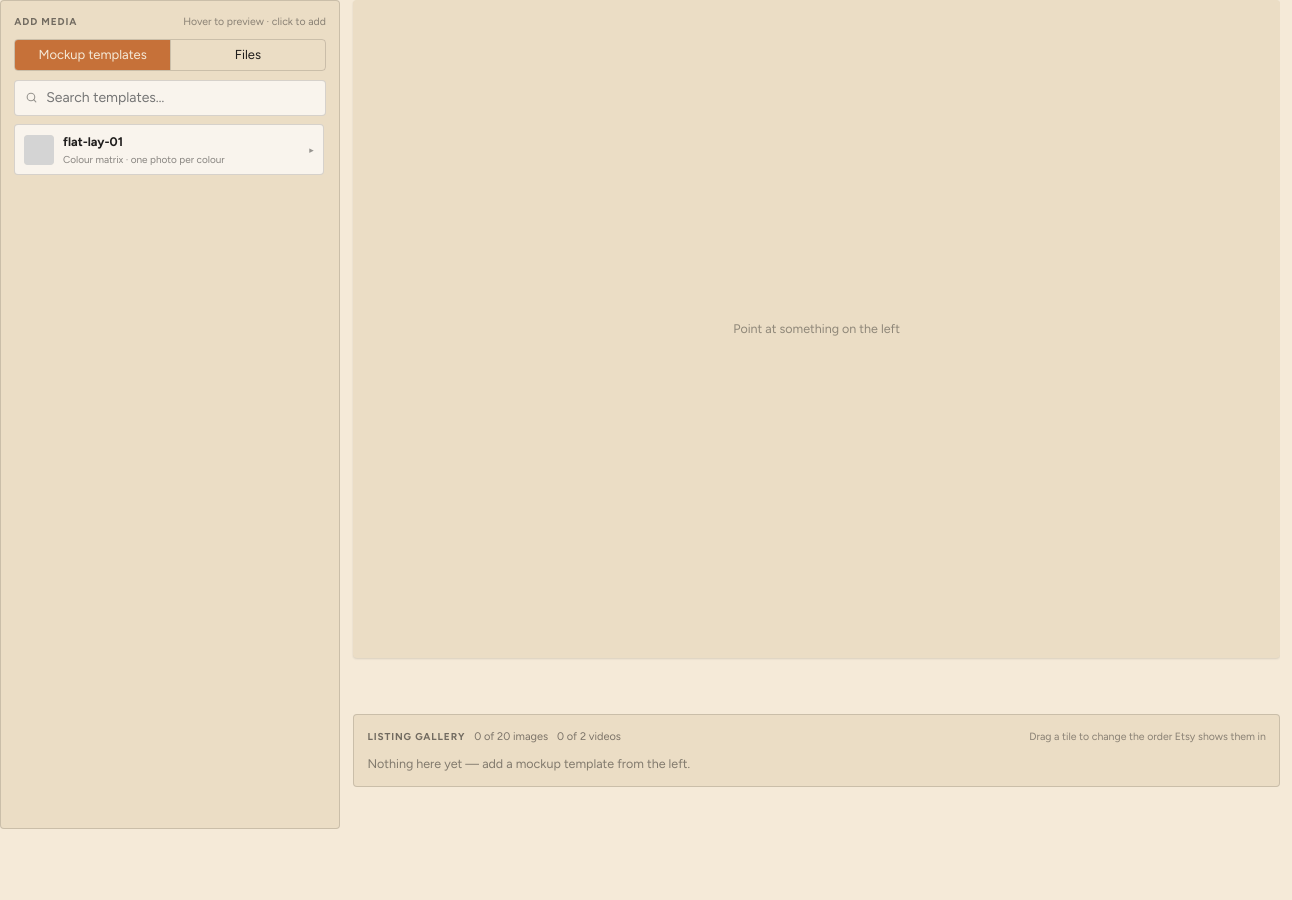
Test: ImagesTab › previews what the pointer is over, naming the file it would render from
Click the text "flat-lay-01": coordinates (93, 142) x1=63 y1=134 x2=123 y2=149
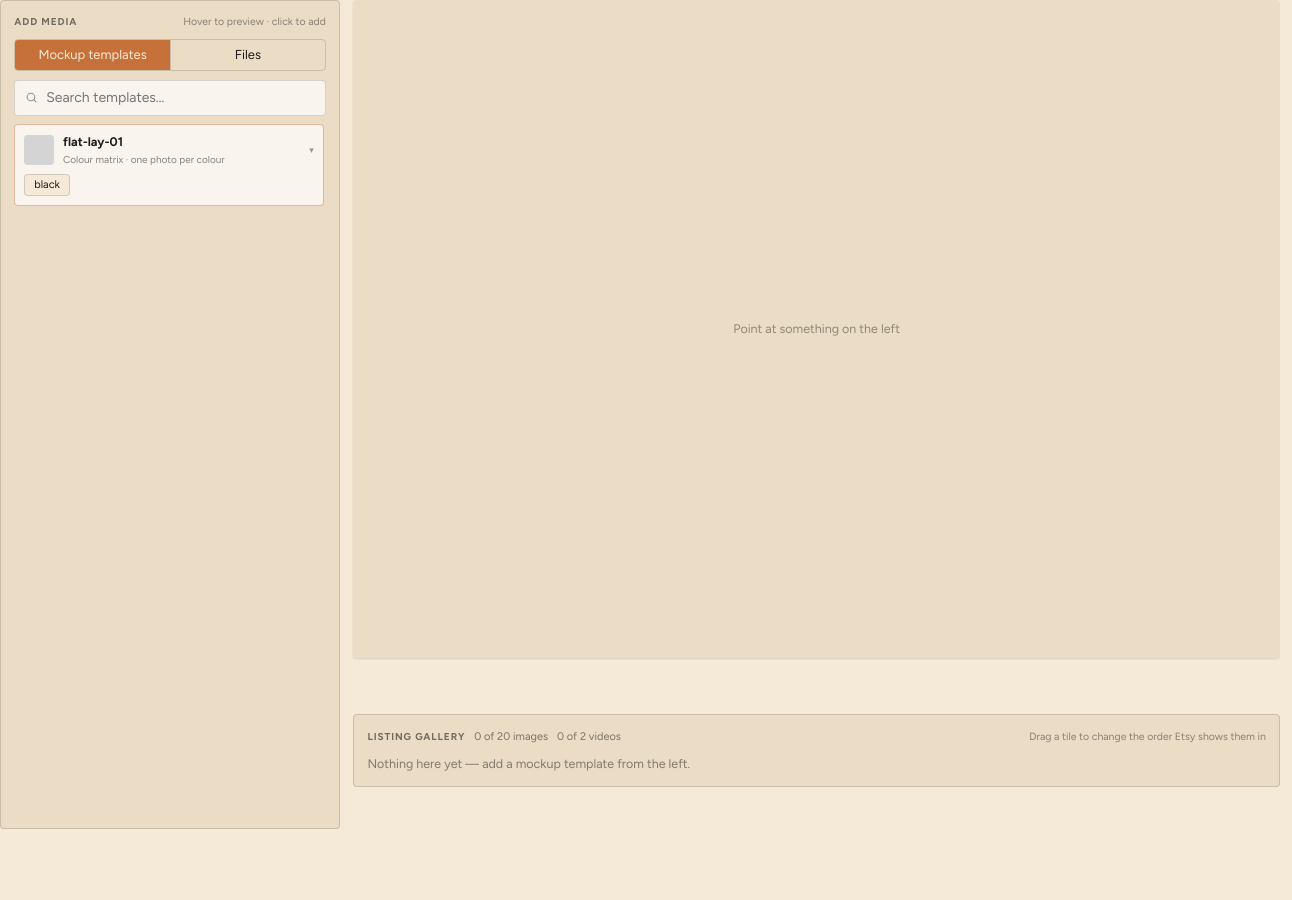
Hover over the button "black": coordinates (47, 185) x1=24 y1=174 x2=70 y2=196
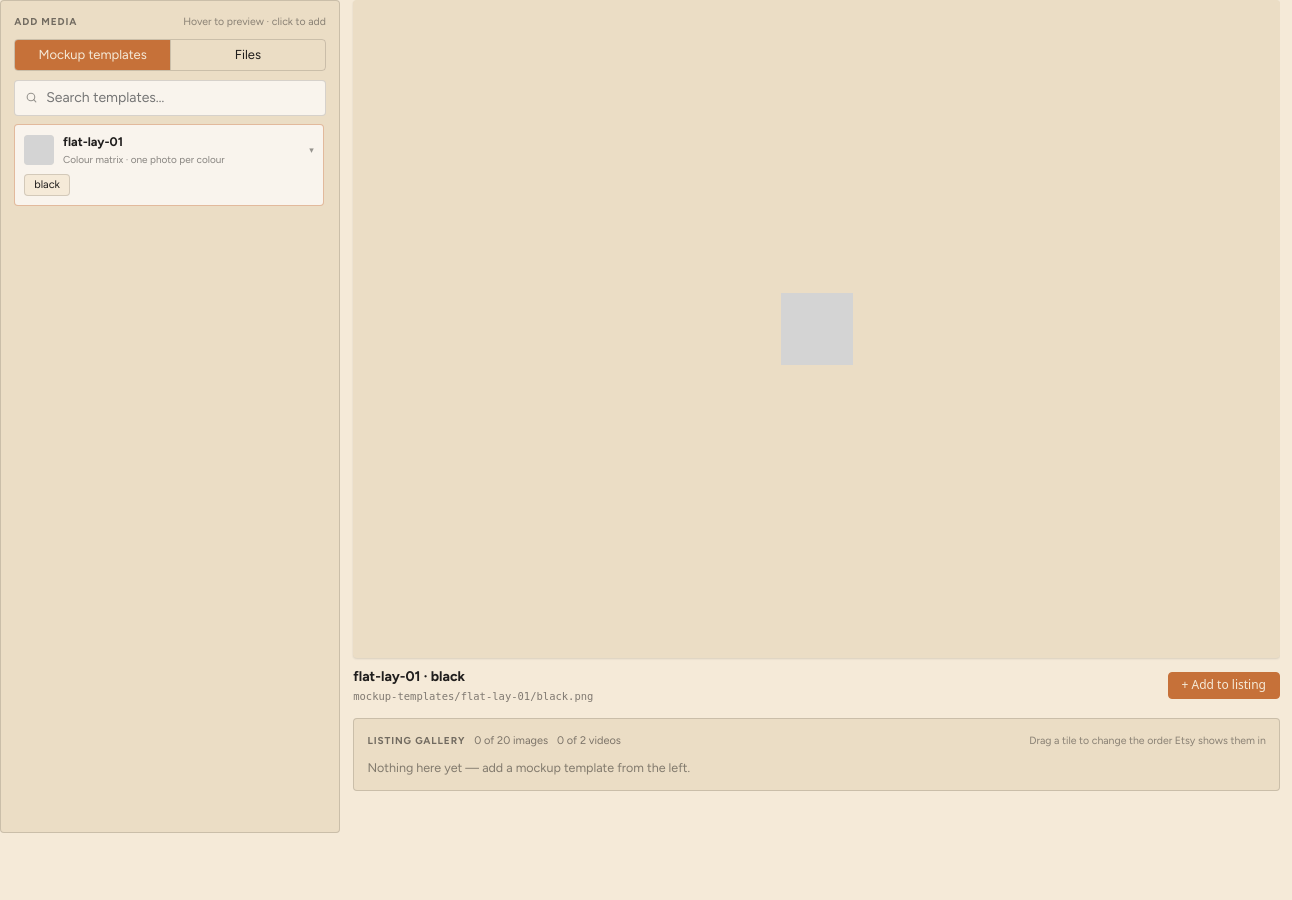
Expected: the text "mockup-templates/flat-lay-01/black.png" is shown, x1=353 y1=690 x2=593 y2=702
